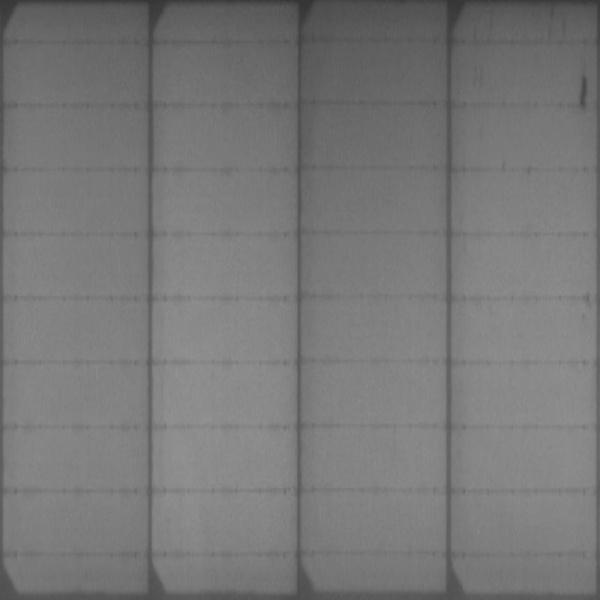scratch: (571, 73, 589, 108)
